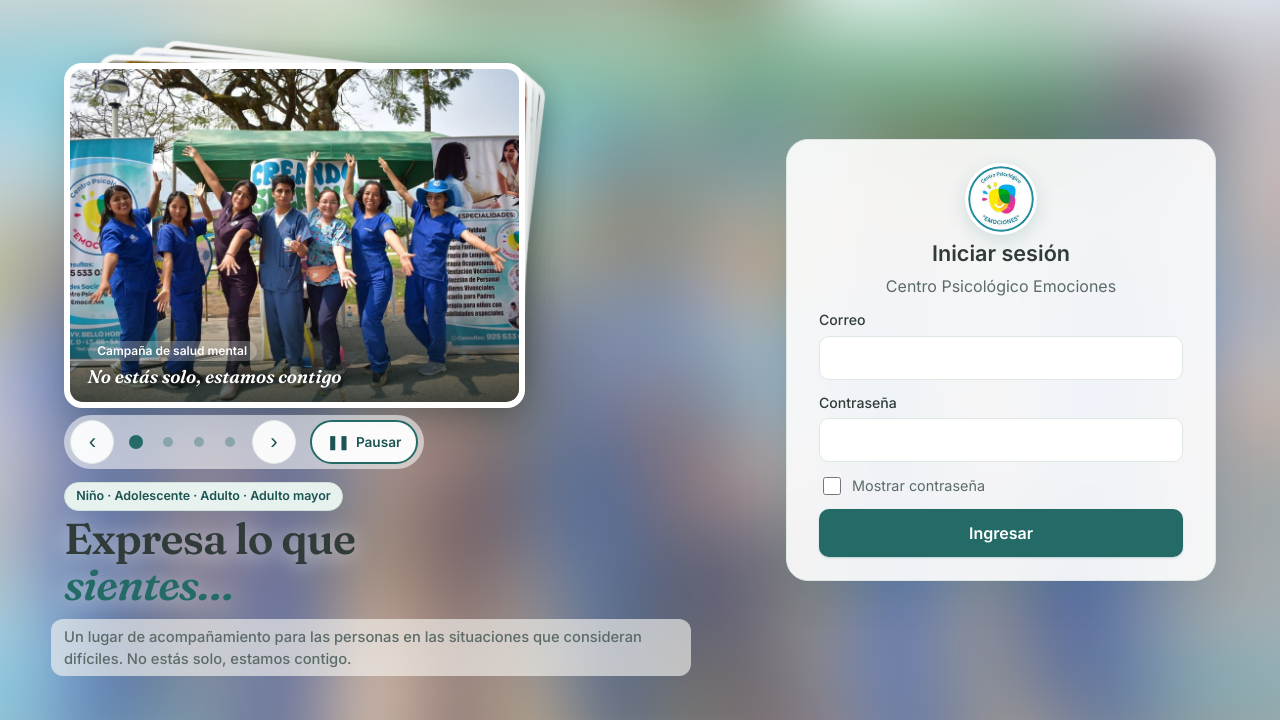
Login con fotos del centro › muestra el error del servidor
Type "x@y.pe" into the field labelled "Correo".
click(1001, 358); type("x@y.pe")  # box [819,336,1183,380]
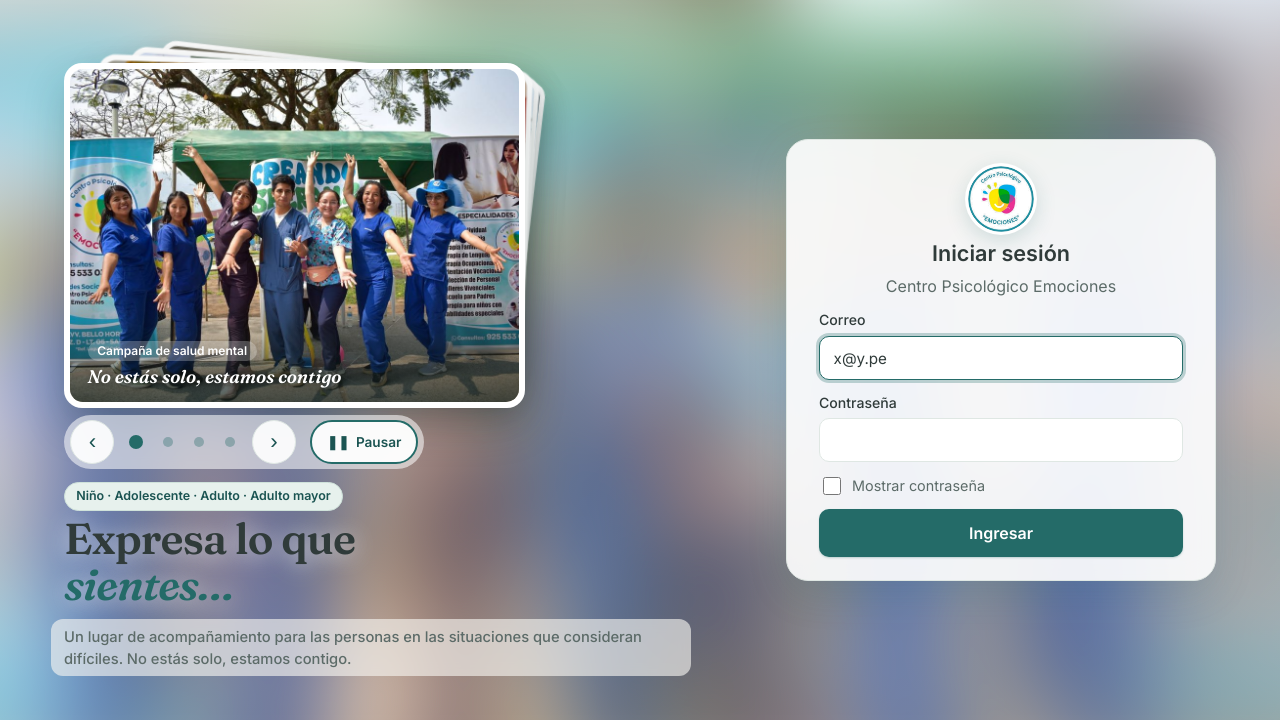
Type "mala" into the password field labelled "Contraseña".
click(1001, 440); type("mala")  # box [819,418,1183,462]
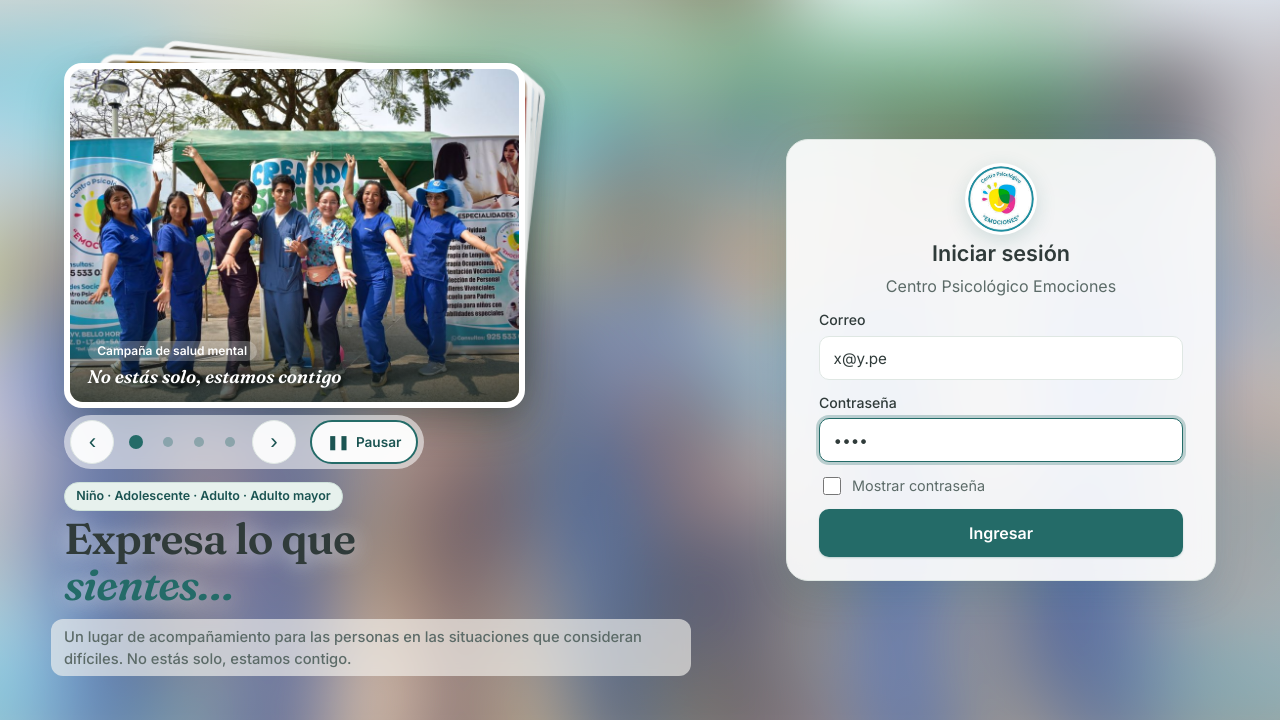
Click the button "Ingresar".
click(1001, 533)  # box [819,509,1183,557]
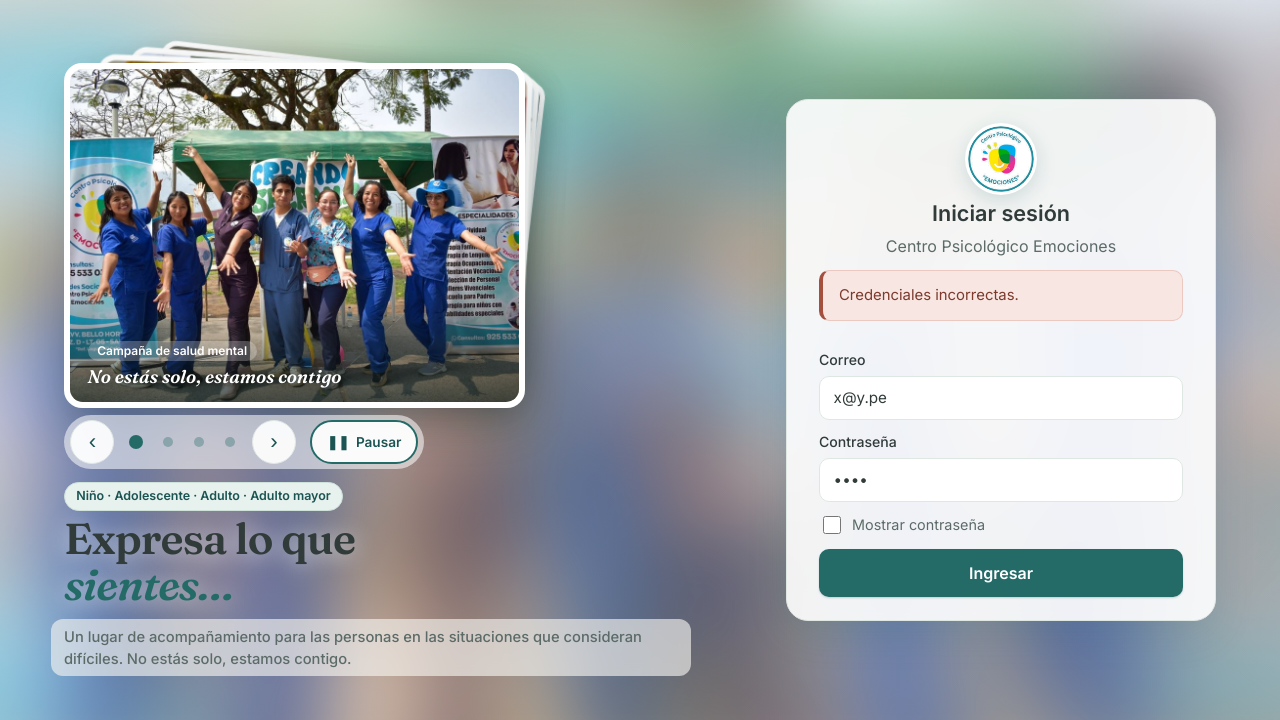
Check: the message reads "Credenciales incorrectas.", box [839,286,1019,304]
